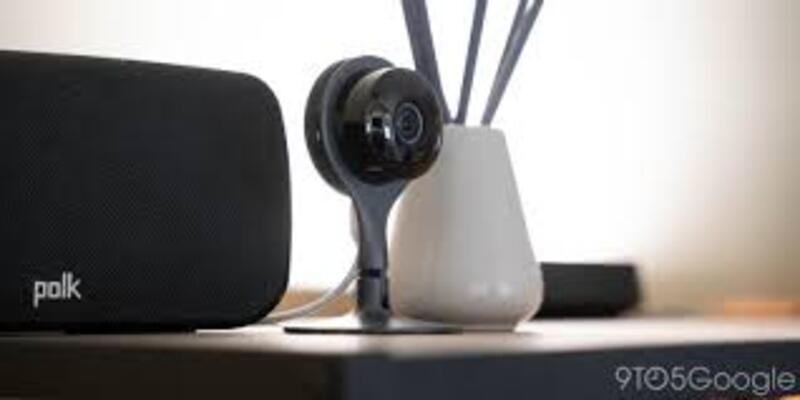nest: (297, 58, 442, 214)
